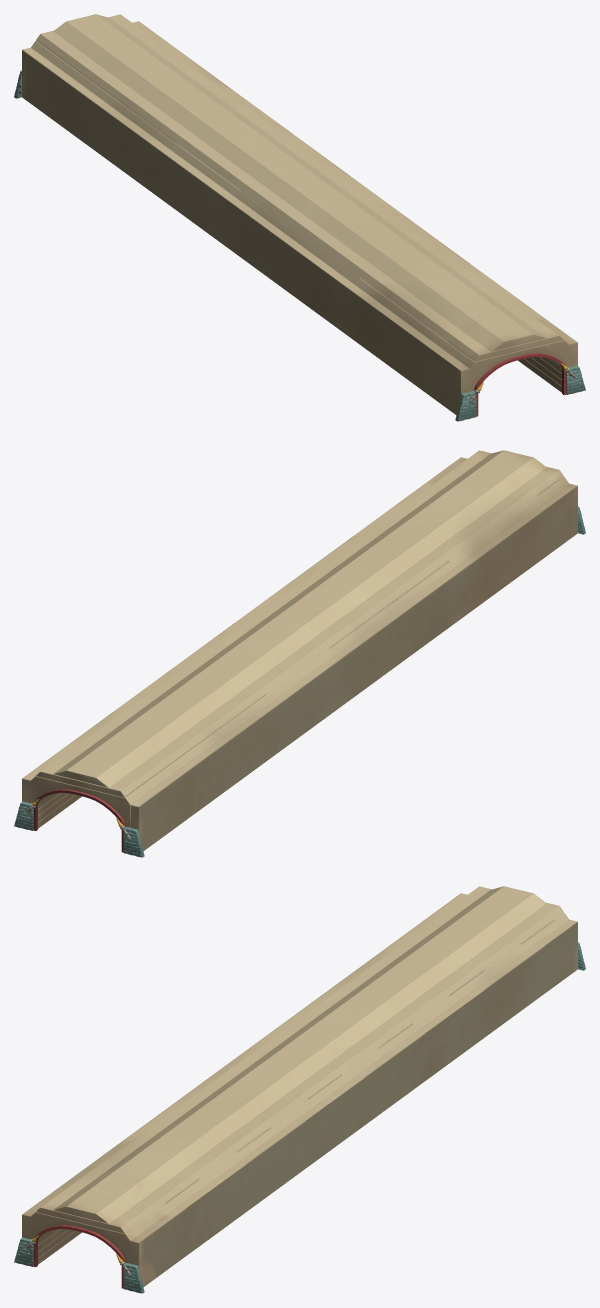
File: TEROWONGAN.fbx
3 renders of one model, top to bottom at view 1: azimuth 30°, elevation 25°; view 2: azimuth 150°, elevation 25°; view 3: azimuth 330°, elevation 25°, orthographic.
Visible parts, largest first — view 1: Cube, Circle.005, Arc Bata Kecil Low, Pager Bata_high.001; view 2: Cube, Circle.005, Arc Bata Kecil Low, Pager Bata_high.001; view 3: Cube, Circle.005, Arc Bata Kecil Low, Pager Bata_high.002.
Boxes of the visible parts, left/top/right/bottom form: Cube: left=22, top=14, right=577, bottom=415; Circle.005: left=518, top=356, right=561, bottom=392; Arc Bata Kecil Low: left=474, top=353, right=566, bottom=416; Pager Bata_high.001: left=14, top=70, right=476, bottom=421; Cube: left=22, top=450, right=577, bottom=851; Circle.005: left=38, top=792, right=130, bottom=828; Arc Bata Kecil Low: left=33, top=789, right=125, bottom=852; Pager Bata_high.001: left=123, top=506, right=585, bottom=857; Cube: left=22, top=886, right=577, bottom=1287; Circle.005: left=38, top=1228, right=81, bottom=1264; Arc Bata Kecil Low: left=33, top=1225, right=125, bottom=1288; Pager Bata_high.002: left=123, top=942, right=585, bottom=1293.
Bounding box in the file's own units: 2045 × 1001 × 12314.
Materials: 5 (5 with a texture image).
